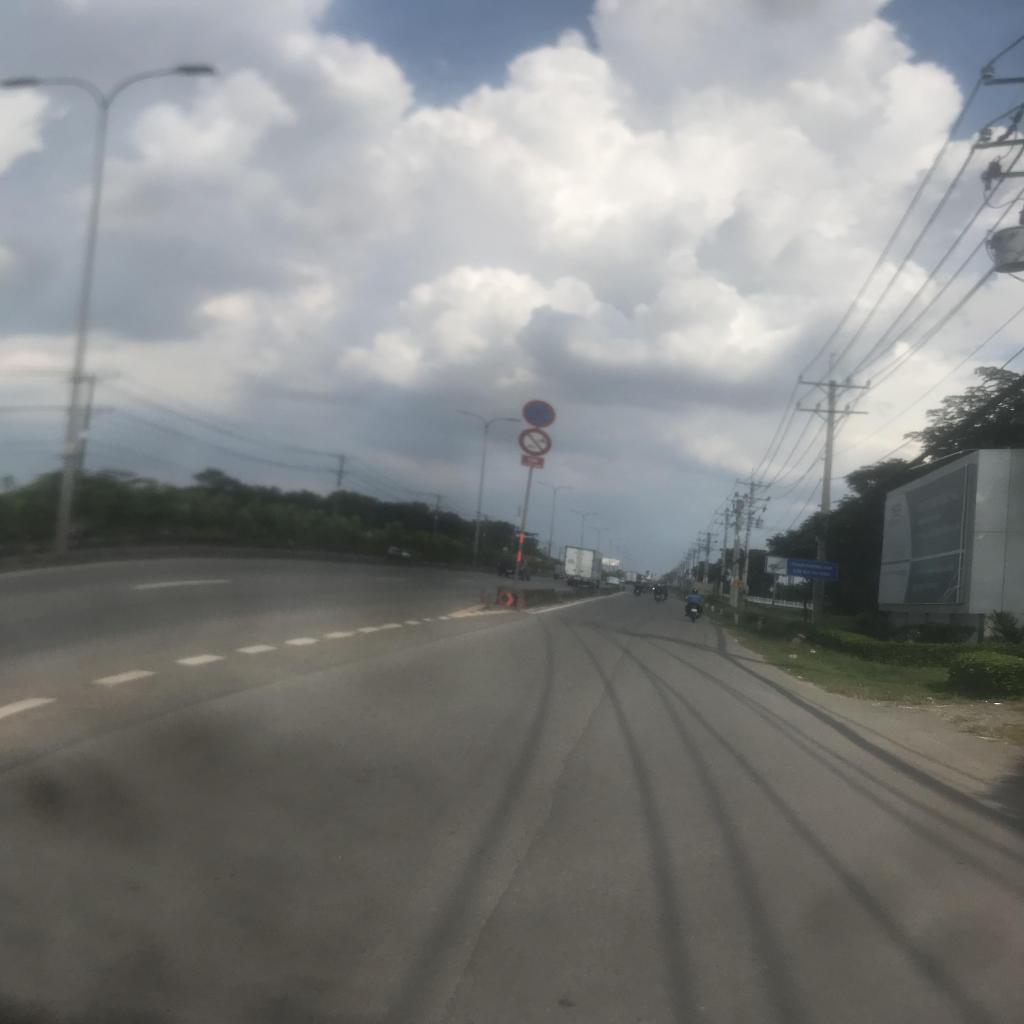cam_dung_xe_va_do_xe: (522, 400, 556, 428)
cam_xe_2_banh_va_xe_3_banh_co_dong_co: (518, 429, 552, 456)
